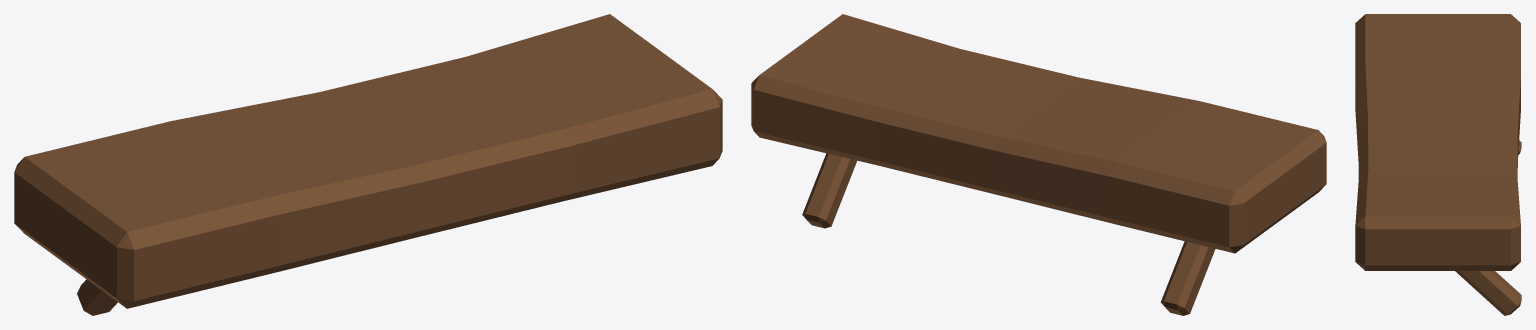
The model's file is windowsill.fbx.
3 views of the same model, side by side, from view 1: azimuth 30°, elevation 25°; view 2: azimuth 150°, elevation 25°; view 3: azimuth 270°, elevation 25° (orthographic). The views are drawn at different scales.
Visible parts, largest first — view 1: Windowsill; view 2: Windowsill; view 3: Windowsill.
Boxes of the visible parts, x1,y1,x2,y2 form: Windowsill: [14, 14, 722, 315]; Windowsill: [751, 14, 1326, 315]; Windowsill: [1355, 14, 1521, 315].
Size of the model in its own units: 165 by 44.55 by 55.23.
